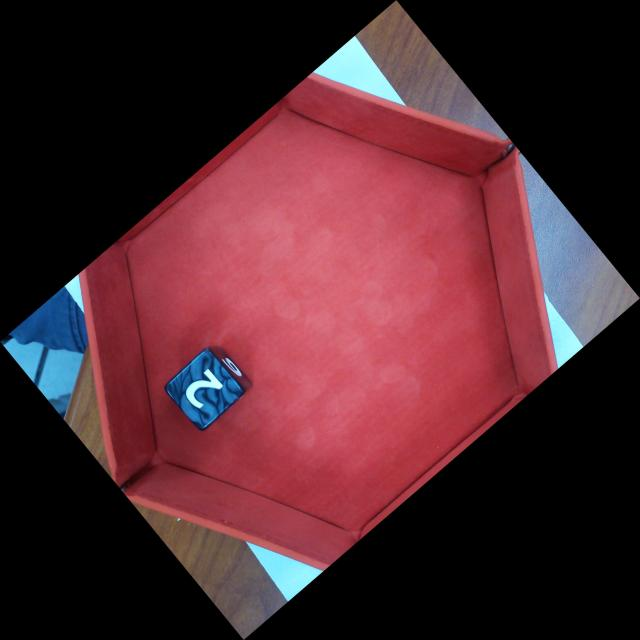dice: (162, 346, 247, 433)
